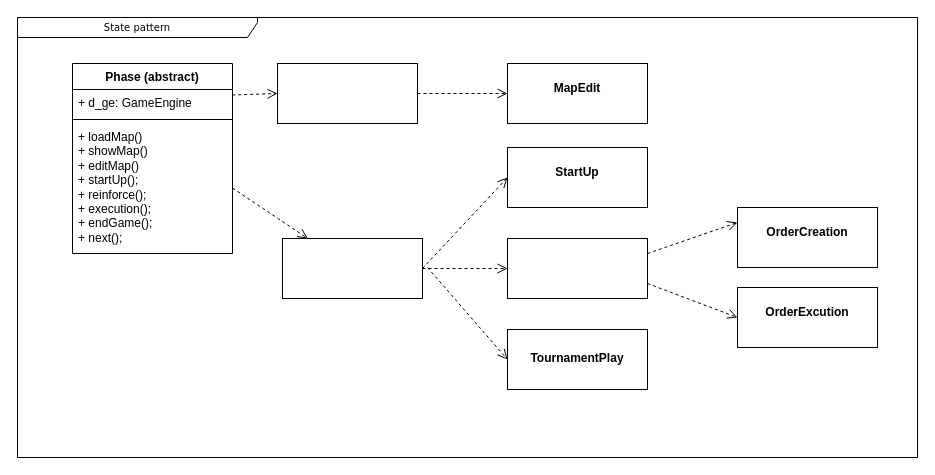
Image size: 935x475. Some labels were removed from this diagram. The centre of each missing label's shape, as x and y in pixels:
Edit: [347,93]
MainPlay: [577,268]
Play: [352,268]
